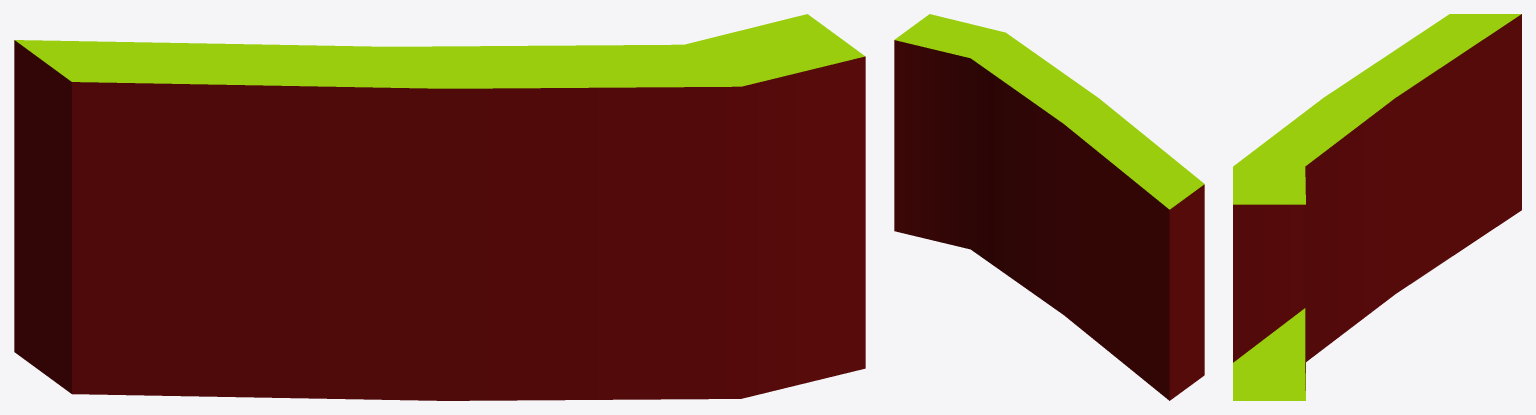
File: AerationRoom_V1.0.fbx
3 renders of one model, left to right at view 1: azimuth 30°, elevation 25°; view 2: azimuth 150°, elevation 25°; view 3: azimuth 270°, elevation 25°, orthographic. The views are drawn at different scales.
Parts seen in each view (by area): view 1: polySurface21; view 2: polySurface21; view 3: polySurface21.
Boxes of the visible parts, box(x1,y1,x2,y2) form: polySurface21: box(14, 14, 865, 400); polySurface21: box(894, 14, 1204, 400); polySurface21: box(1233, 14, 1521, 400).
Bounding box in the file's own units: 625 × 300 × 400.
